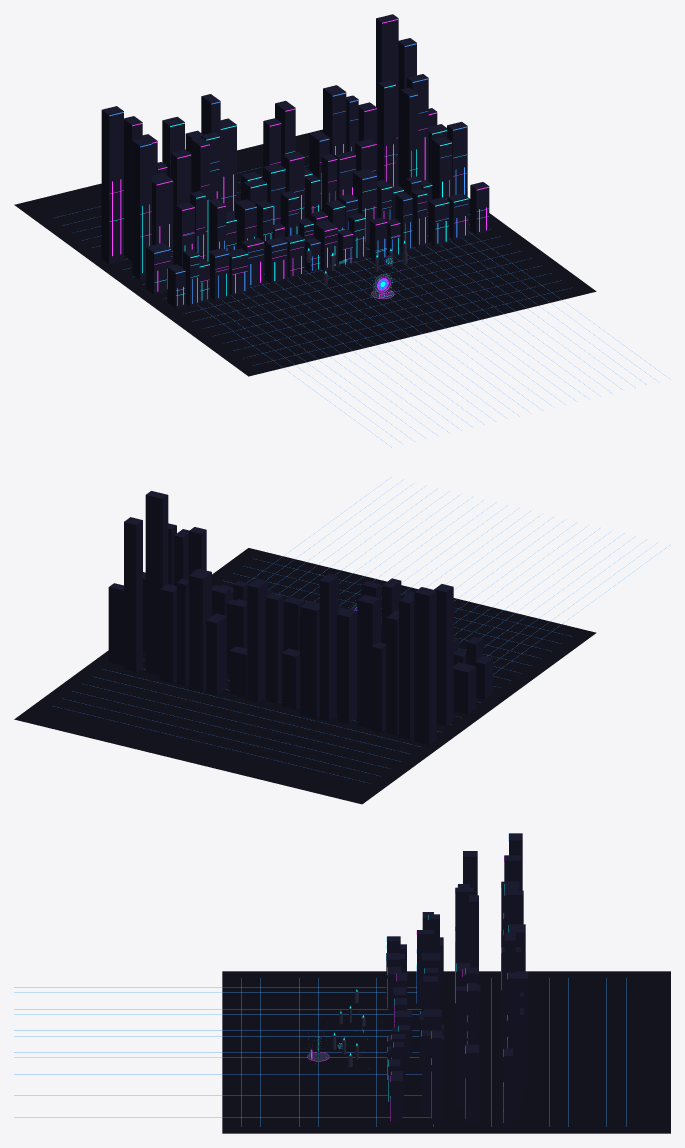
File: next_level_cyber_dimension.glb
The picture shows the model from 3 angles, top to bottom: view 1: azimuth 30°, elevation 25°; view 2: azimuth 150°, elevation 25°; view 3: azimuth 270°, elevation 25°; orthographic projection. The views are drawn at different scales.
Parts seen in each view (by area): view 1: Floor, Building_56, Building_39, Building_72, Building_52, Building_53, Building_40, Building_69, Building_57, Building_63, Building_54, Building_41 (+40 smaller); view 2: Floor, Building_72, Building_56, Building_73, Building_62, Building_69, Building_39, Building_61, Building_60, Building_66, Building_63, Building_57 (+17 smaller); view 3: Floor, Building_73, Building_53, Building_55, Building_42, Building_38, Building_74, Building_37, Building_72, Building_43, Building_22, Building_62 (+8 smaller).
Boxes of the visible parts, bbox=[...] form: Floor: bbox=[14, 129, 596, 376]; Building_56: bbox=[101, 106, 123, 264]; Building_39: bbox=[132, 138, 151, 279]; Building_72: bbox=[376, 14, 398, 185]; Building_52: bbox=[378, 80, 395, 186]; Building_53: bbox=[400, 87, 418, 192]; Building_40: bbox=[152, 173, 173, 265]; Building_69: bbox=[323, 85, 346, 155]; Building_57: bbox=[124, 116, 142, 260]; Building_63: bbox=[220, 118, 236, 212]; Building_54: bbox=[407, 74, 428, 181]; Building_41: bbox=[170, 149, 191, 264]; Floor: bbox=[14, 548, 596, 804]; Building_72: bbox=[145, 491, 168, 675]; Building_56: bbox=[414, 587, 436, 745]; Building_73: bbox=[124, 517, 142, 672]; Building_62: bbox=[319, 573, 338, 720]; Building_69: bbox=[188, 568, 211, 692]; Building_39: bbox=[434, 584, 453, 725]; Building_61: bbox=[337, 608, 357, 723]; Building_60: bbox=[357, 595, 379, 729]; Building_66: bbox=[247, 578, 267, 702]; Building_63: bbox=[300, 600, 319, 718]; Building_57: bbox=[399, 594, 414, 739]; Floor: bbox=[222, 971, 670, 1133]; Building_73: bbox=[507, 972, 519, 1119]; Building_53: bbox=[455, 986, 467, 1107]; Building_55: bbox=[465, 1045, 479, 1123]; Building_42: bbox=[455, 887, 473, 1009]; Building_38: bbox=[431, 1030, 442, 1124]; Building_74: bbox=[503, 1048, 513, 1127]; Building_37: bbox=[422, 1030, 436, 1114]; Building_72: bbox=[504, 932, 515, 1048]; Building_43: bbox=[469, 895, 478, 985]; Building_22: bbox=[417, 930, 434, 1008]; Building_62: bbox=[505, 890, 523, 932].
Bounding box in the file's own units: 120 × 58.44 × 205.
